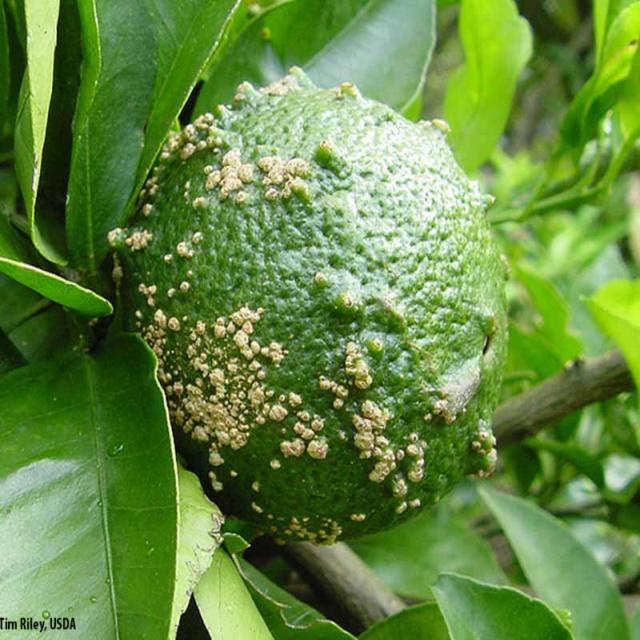scab: (103, 44, 523, 549)
